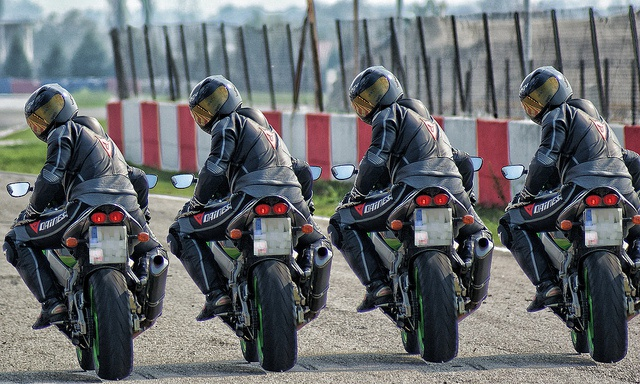non-vehicle: (367, 186, 494, 367), (204, 194, 332, 371), (39, 204, 167, 380), (540, 187, 640, 366)
